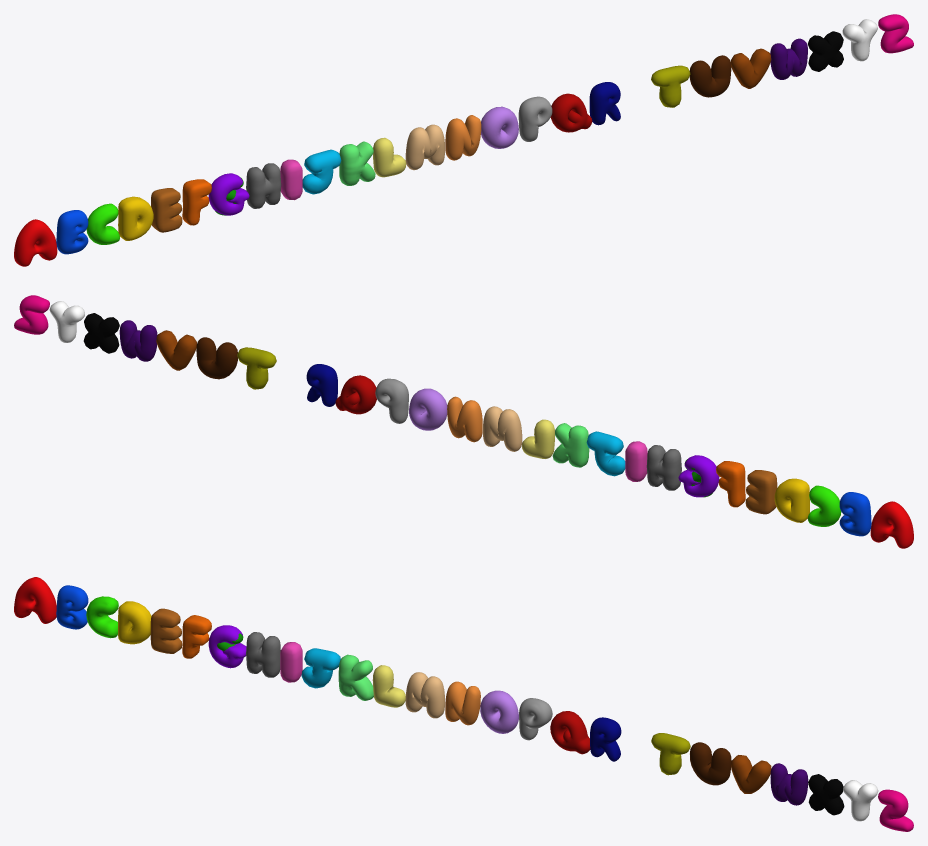
3 views of the same model, one above another, from view 1: azimuth 30°, elevation 25°; view 2: azimuth 150°, elevation 25°; view 3: azimuth 330°, elevation 25° (orthographic).
Parts seen in each view (by area): view 1: A_0, M_12, U_20, H_4, N_15, O_13, D_5, K_10, W_22, B_1, Q_16, G_7 (+13 smaller); view 2: A_0, M_12, U_20, H_4, O_13, N_15, D_5, K_10, W_22, B_1, Q_16, G_7 (+13 smaller); view 3: A_0, M_12, U_20, H_4, O_13, K_10, Q_16, N_15, D_5, E_3, W_22, B_1 (+13 smaller).
Boxes of the visible parts, bbox=[...] form: A_0: bbox=[14, 219, 57, 266]; M_12: bbox=[405, 124, 444, 170]; U_20: bbox=[689, 55, 731, 97]; H_4: bbox=[246, 163, 281, 208]; N_15: bbox=[445, 115, 481, 160]; O_13: bbox=[481, 106, 518, 148]; D_5: bbox=[118, 196, 153, 240]; K_10: bbox=[339, 141, 375, 185]; W_22: bbox=[770, 38, 807, 79]; B_1: bbox=[56, 210, 88, 254]; Q_16: bbox=[550, 93, 592, 132]; G_7: bbox=[208, 173, 249, 215]; A_0: bbox=[870, 501, 913, 548]; M_12: bbox=[483, 406, 522, 451]; U_20: bbox=[196, 337, 237, 379]; H_4: bbox=[646, 445, 681, 490]; O_13: bbox=[409, 388, 447, 430]; N_15: bbox=[447, 396, 482, 442]; D_5: bbox=[774, 478, 809, 522]; K_10: bbox=[552, 423, 589, 467]; W_22: bbox=[119, 320, 157, 361]; B_1: bbox=[839, 492, 871, 536]; Q_16: bbox=[335, 375, 376, 414]; G_7: bbox=[678, 455, 719, 497]; A_0: bbox=[14, 577, 56, 623]; M_12: bbox=[405, 672, 444, 718]; U_20: bbox=[690, 742, 731, 785]; H_4: bbox=[246, 632, 280, 677]; O_13: bbox=[480, 690, 518, 733]; K_10: bbox=[338, 654, 373, 700]; Q_16: bbox=[550, 711, 590, 754]; N_15: bbox=[445, 681, 480, 725]; D_5: bbox=[118, 601, 151, 644]; E_3: bbox=[150, 608, 182, 653]; W_22: bbox=[770, 763, 808, 805]; B_1: bbox=[56, 585, 88, 629].
Bounding box in the file's own units: 23.11 × 1.03 × 0.5393.
